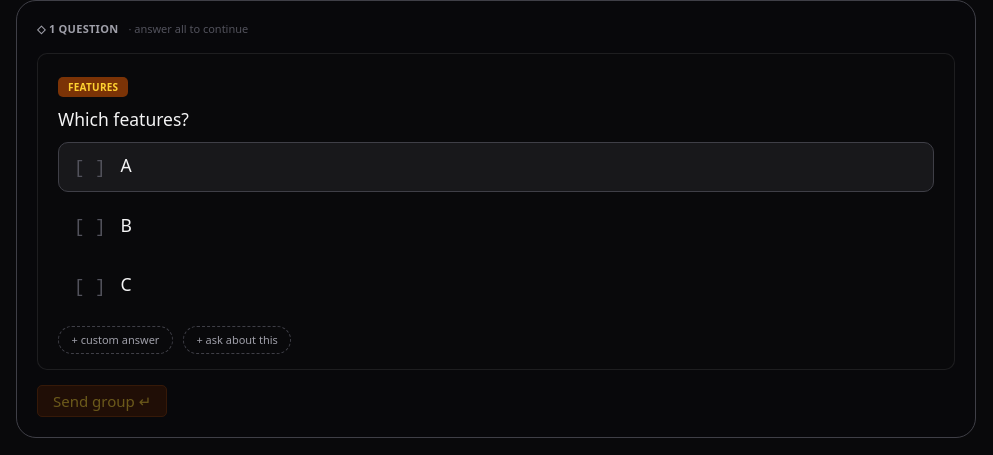
Test case: ActivityFeed › multi-select Send stays disabled until the question is addressed
Expected: the button "Send group ↵" is disabled, [37,385,167,417]
Step 1. Click the text "A" → (126, 166), box [120,153,132,178]
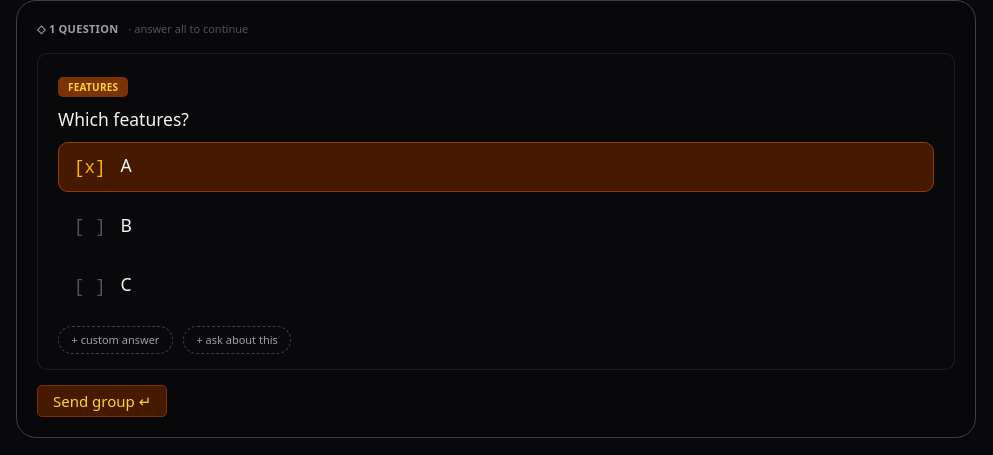
Now the button "Send group ↵" is enabled, box [37,385,167,417]
